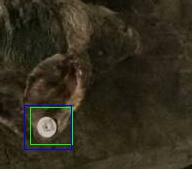text: (30, 107, 72, 144)
